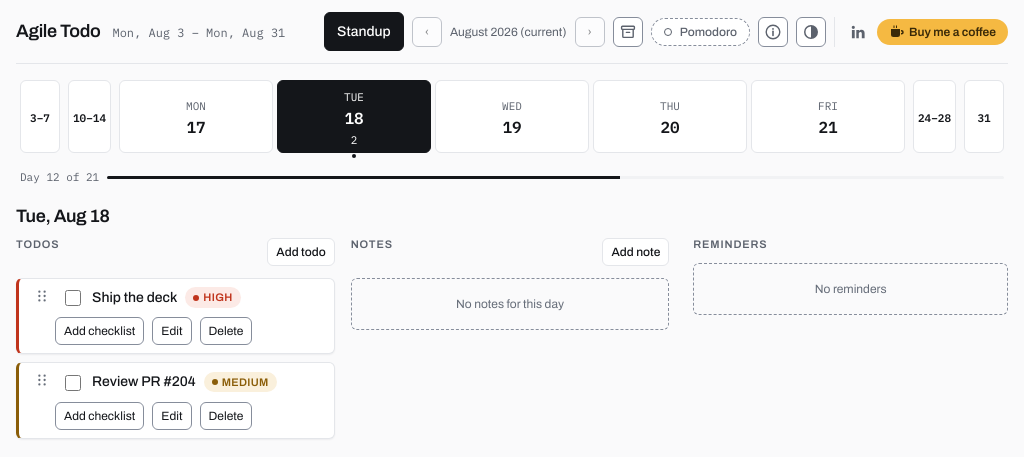
todos on the board › gives each todo its own unambiguous Edit/Delete accessible name
Step 1. Click the button with aria-label "Delete todo: Review PR #204" → [226, 416], box top-left (200, 402), bottom-right (252, 430)
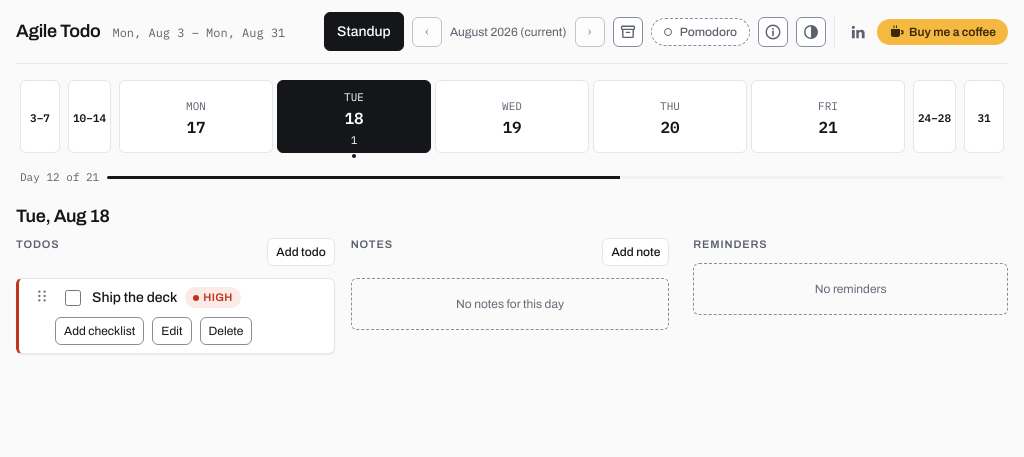
Expected: the text "Ship the deck" is shown, top-left (92, 287), bottom-right (177, 308)
Now the text "Review PR #204" is gone
